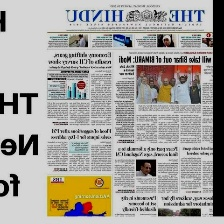news_paper: (46, 0, 215, 217)
